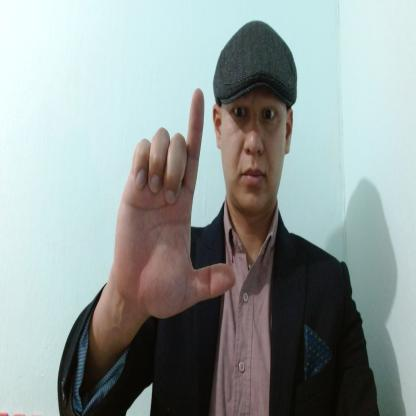L: (115, 88, 238, 321)
